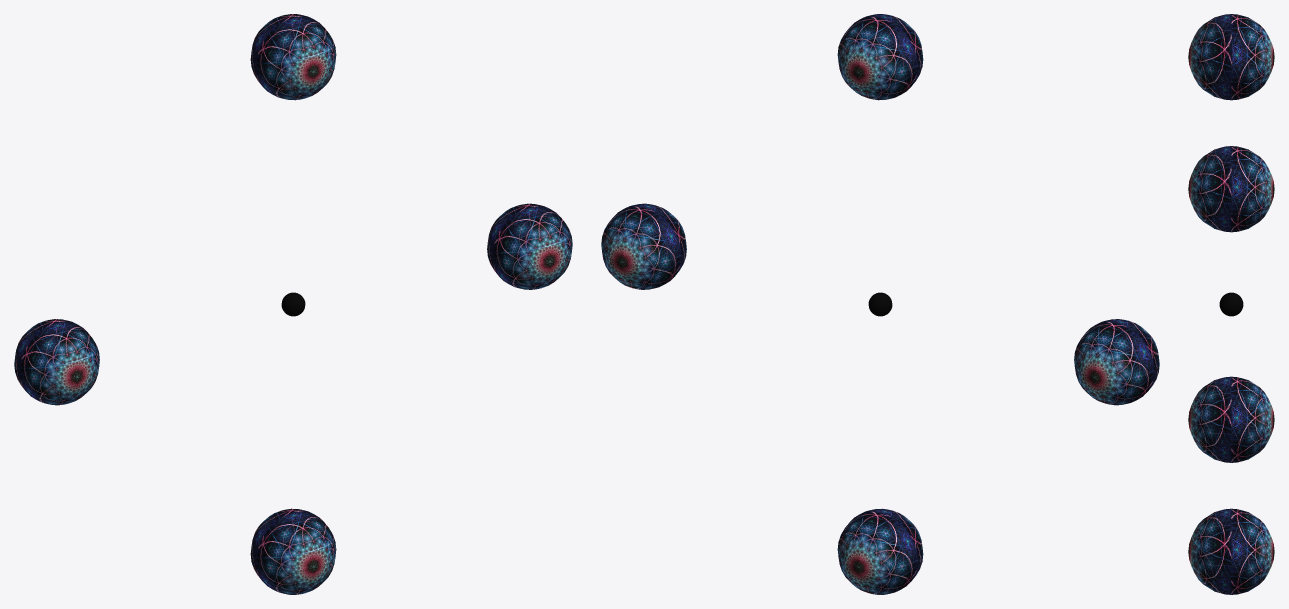
Rendered from Electron.fbx.
3 renders of one model, left to right at view 1: azimuth 30°, elevation 25°; view 2: azimuth 150°, elevation 25°; view 3: azimuth 270°, elevation 25°, orthographic.
Visible parts, largest first — view 1: Sphere; view 2: Sphere; view 3: Sphere.
Boxes of the visible parts, x1,y1,x2,y2 form: Sphere: (14,14,572,594); Sphere: (601,14,1159,594); Sphere: (1188,14,1274,594).
Size of the model in its own units: 927 by 927 by 127.
